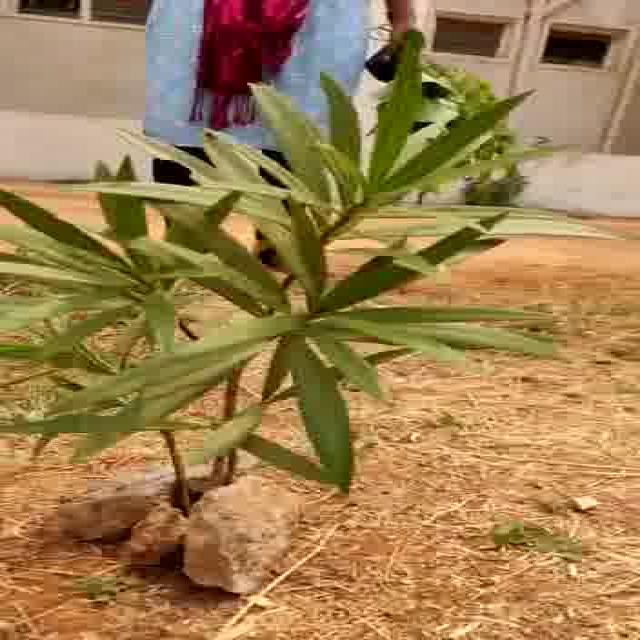OLEANDER: (7, 70, 552, 492)
